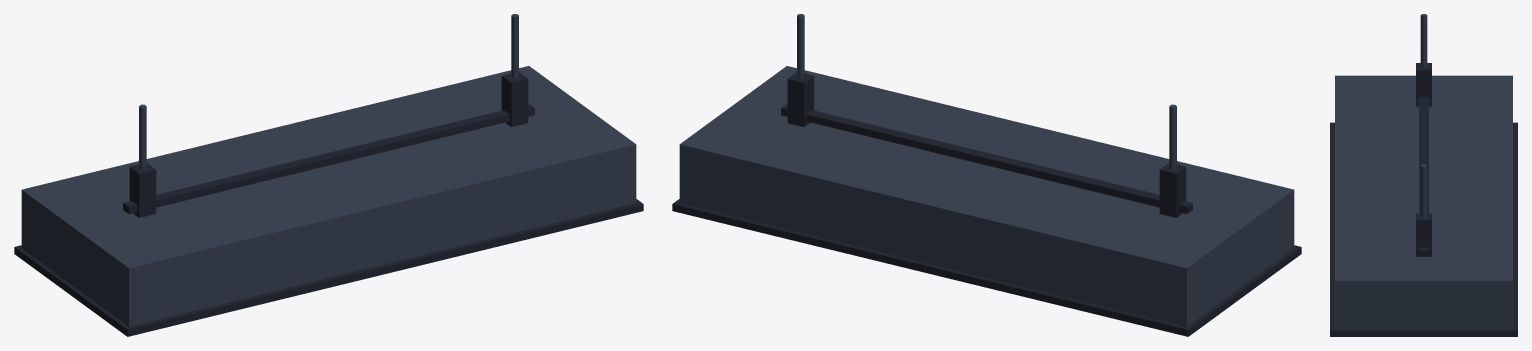
The model's file is light.glb.
The picture shows the model from 3 angles, left to right: view 1: azimuth 30°, elevation 25°; view 2: azimuth 150°, elevation 25°; view 3: azimuth 270°, elevation 25°; orthographic projection. The views are drawn at different scales.
Parts seen in each view (by area): view 1: housing, trim; view 2: housing, trim; view 3: housing, trim.
Part boxes in pixels (x1,y1,x2,y2): housing: [21, 14, 636, 326]; trim: [14, 72, 643, 336]; housing: [679, 14, 1294, 326]; trim: [672, 72, 1301, 336]; housing: [1335, 14, 1512, 329]; trim: [1330, 63, 1517, 336].
Size of the model in its own units: 6.1 by 1.94 by 2.32.
